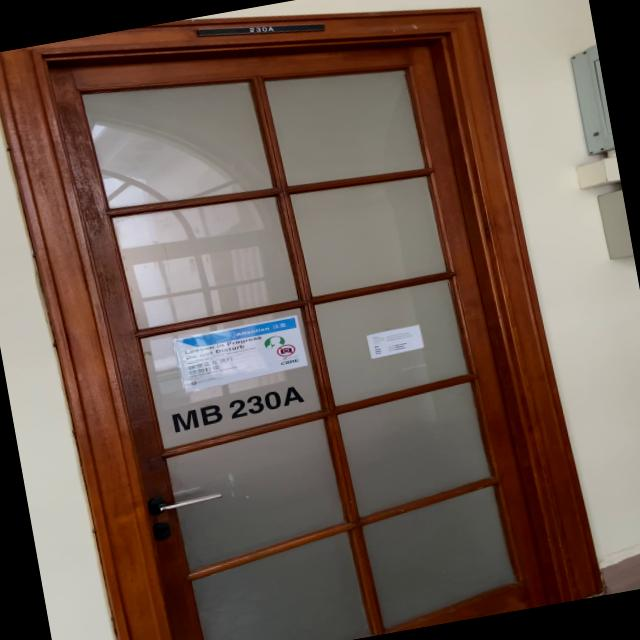room230A: (192, 4, 328, 54)
room230AWindow: (162, 381, 309, 436)
